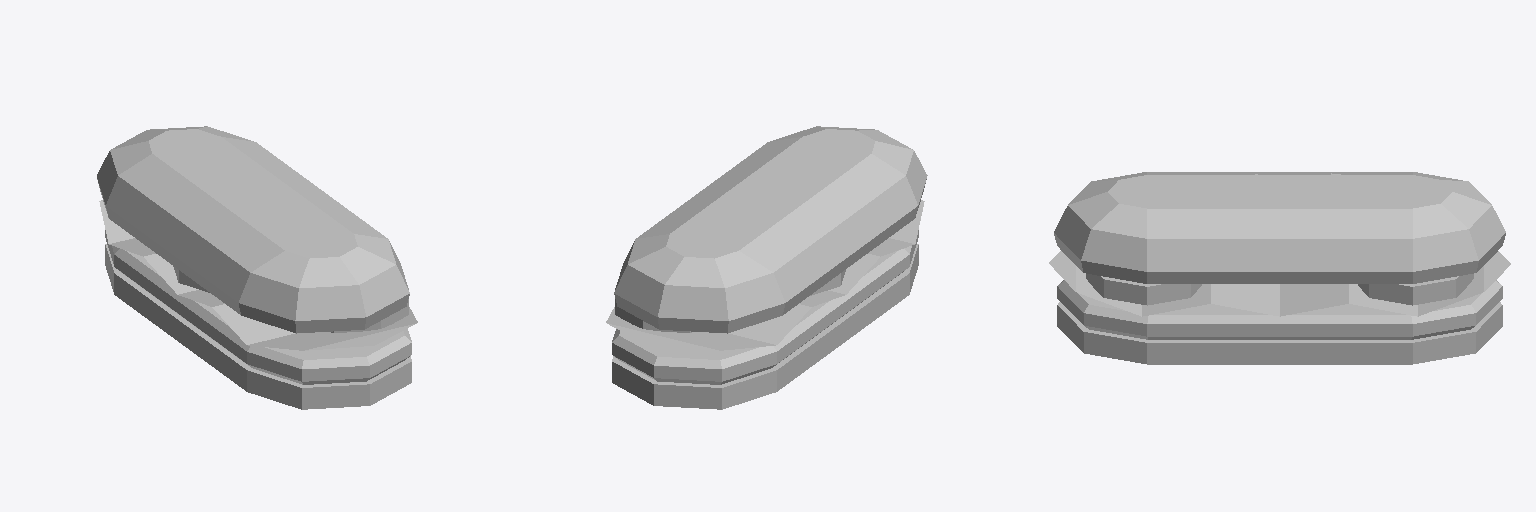
3 views of the same model, side by side, from view 1: azimuth 30°, elevation 25°; view 2: azimuth 150°, elevation 25°; view 3: azimuth 270°, elevation 25° (orthographic).
Parts seen in each view (by area): view 1: bun-top, meat, bun-bottom, lettuce, tomato; view 2: bun-top, meat, bun-bottom, lettuce, tomato; view 3: bun-top, meat, bun-bottom, lettuce, tomato.
Part boxes in pixels (left/top/right/bottom): bun-top: left=97, top=126, right=409, bottom=333; meat: left=105, top=230, right=411, bottom=384; bun-bottom: left=105, top=244, right=411, bottom=409; lettuce: left=99, top=200, right=417, bottom=350; tomato: left=173, top=266, right=408, bottom=332; bun-top: left=614, top=126, right=927, bottom=333; meat: left=612, top=230, right=918, bottom=384; bun-bottom: left=612, top=244, right=918, bottom=409; lettuce: left=606, top=200, right=924, bottom=350; tomato: left=615, top=270, right=845, bottom=332; bun-top: left=1054, top=172, right=1505, bottom=283; meat: left=1057, top=280, right=1502, bottom=339; bun-bottom: left=1057, top=302, right=1502, bottom=364; lettuce: left=1049, top=251, right=1510, bottom=316; tomato: left=1086, top=274, right=1473, bottom=305.
Bounding box in the file's own units: 0.2827 × 0.2225 × 0.6756.